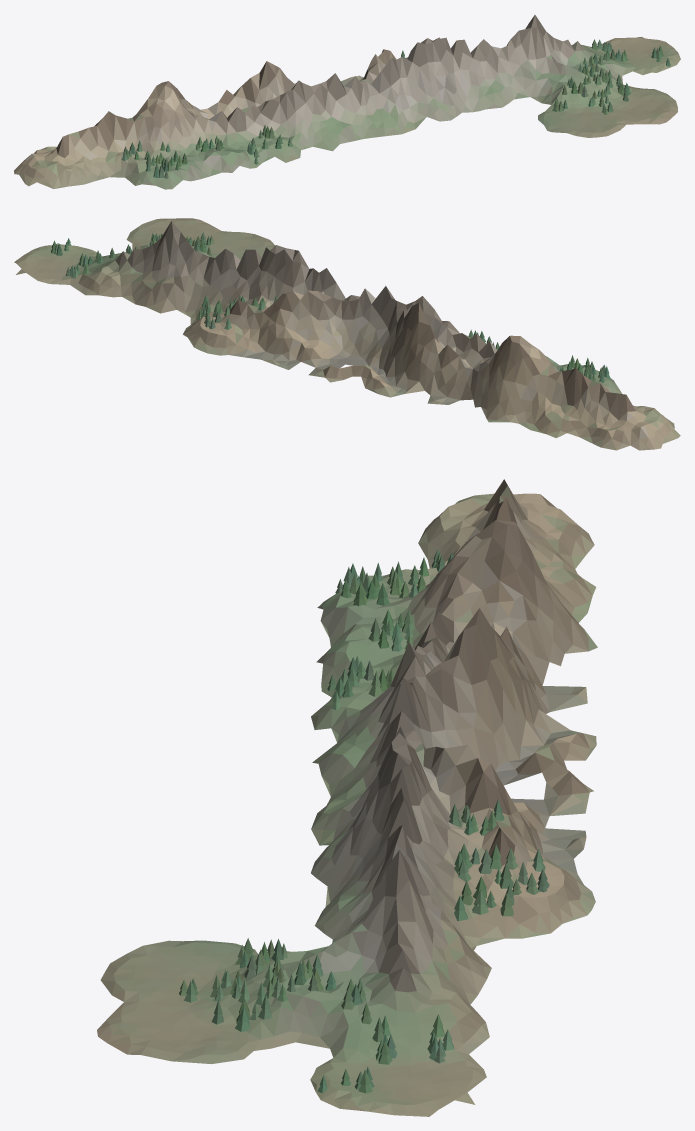
Rendered from range_qinling.glb.
3 renders of one model, top to bottom at view 1: azimuth 30°, elevation 25°; view 2: azimuth 150°, elevation 25°; view 3: azimuth 270°, elevation 25°, orthographic. The views are drawn at different scales.
Visible parts, largest first — view 1: range_qinling, trees_qinling; view 2: range_qinling, trees_qinling; view 3: range_qinling, trees_qinling.
Part boxes in pixels (x1,y1,x2,y2): range_qinling: (14,15,680,189); trees_qinling: (121,39,670,178); range_qinling: (14,218,680,450); trees_qinling: (51,232,610,382); range_qinling: (97,479,597,1116); trees_qinling: (179,549,549,1093).
Size of the model in its own units: 374 by 38.59 by 129.
